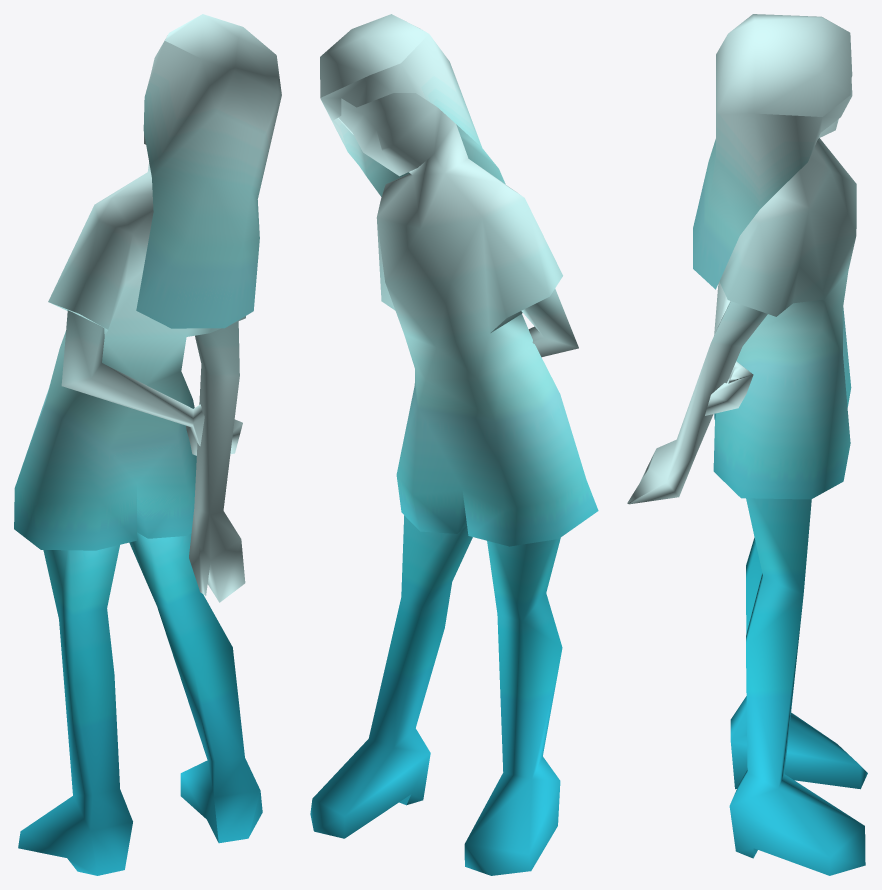
The model's file is sn4g.ico.obj.
3 views of the same model, side by side, from view 1: azimuth 30°, elevation 25°; view 2: azimuth 150°, elevation 25°; view 3: azimuth 270°, elevation 25° (orthographic). The views are drawn at different scales.
Bounding box in the file's own units: 1.57 × 4.78 × 1.25.
1 material, 1 textured.
